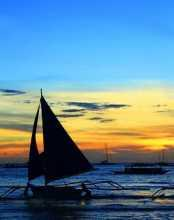fanchuan: (13, 93, 99, 204)
